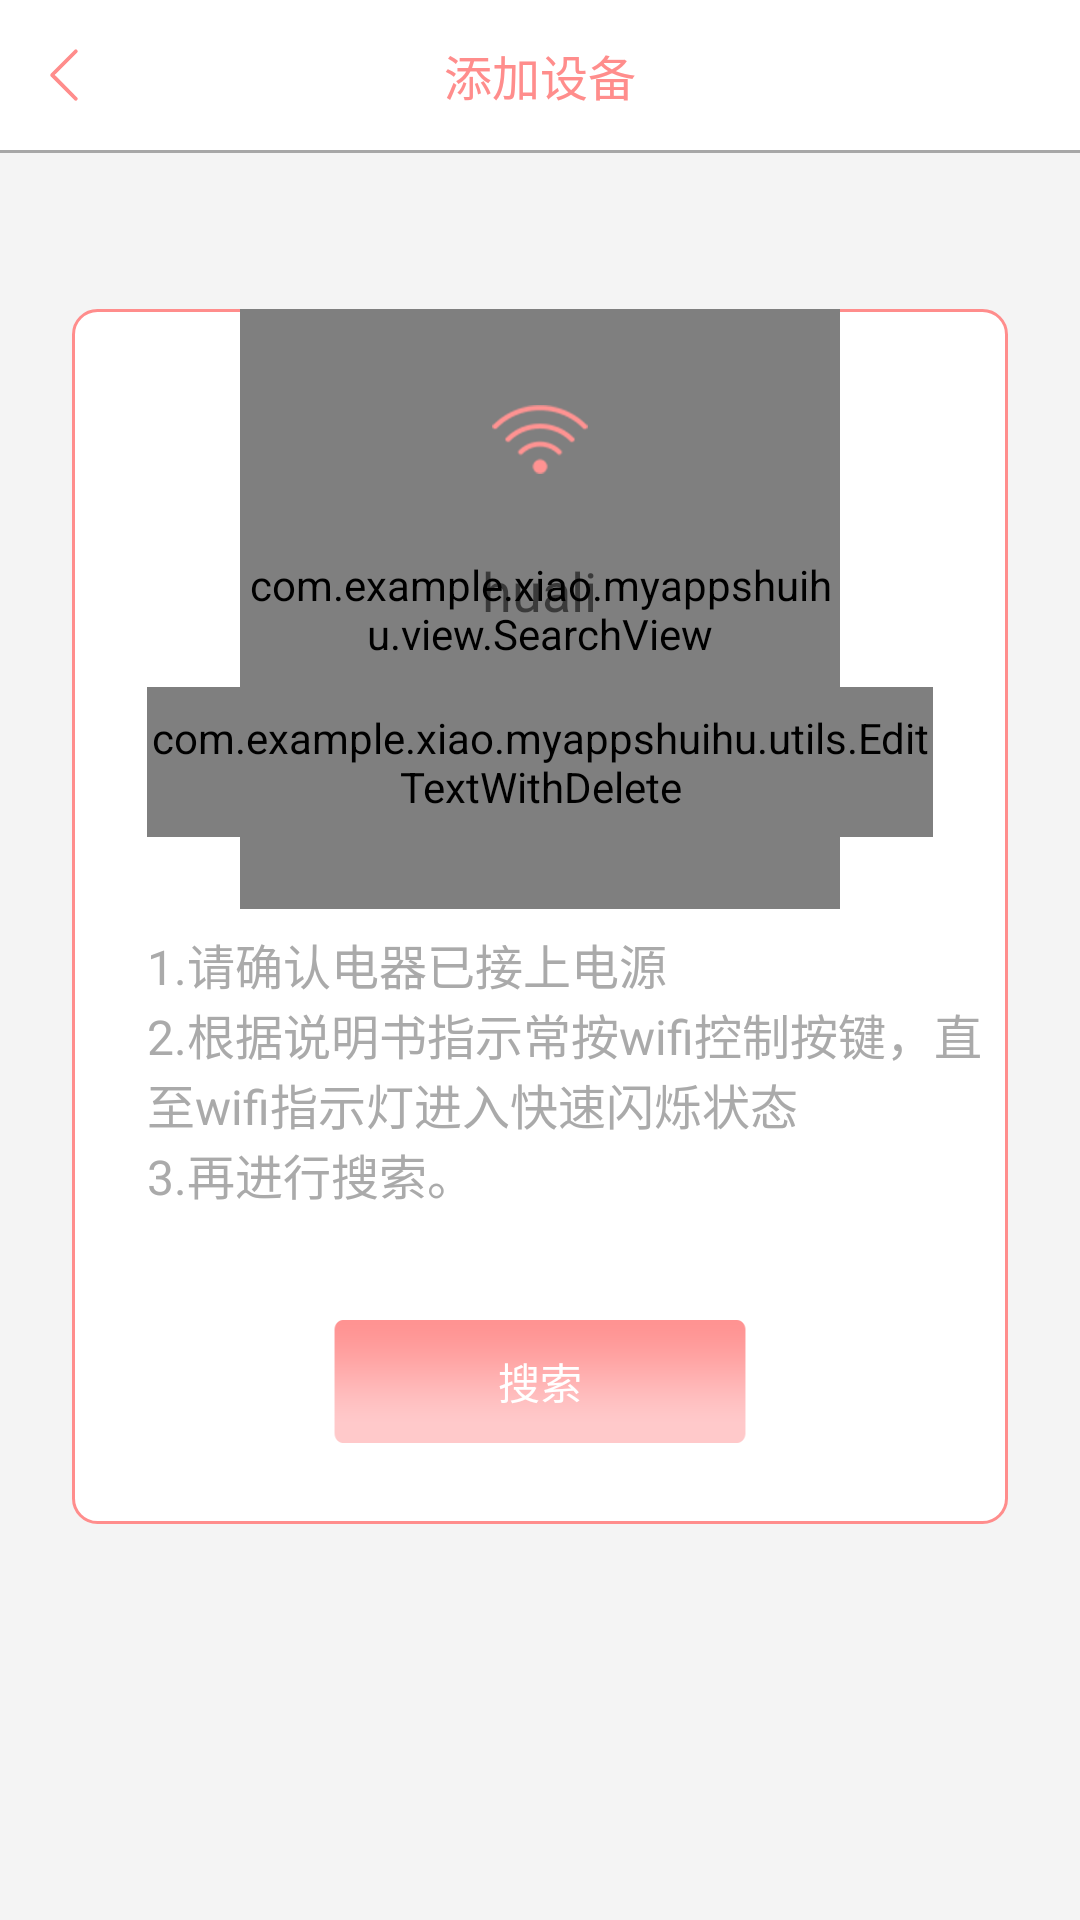

Where to tap for icons on this 1080*1920 app screen, as (x,y):
fanhuijiantou: (64,75)
wifiicon: (540,439)
